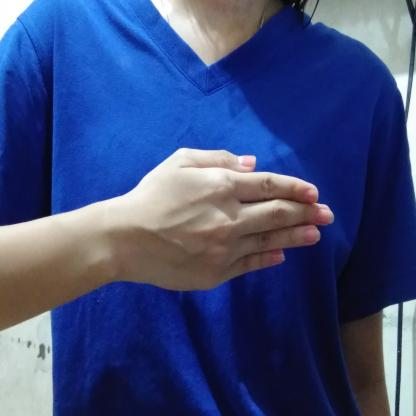ready: (104, 144, 343, 298)
